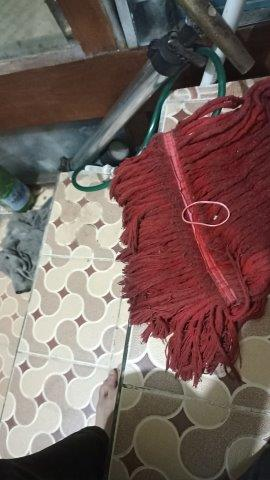karet: (181, 201, 230, 227)
